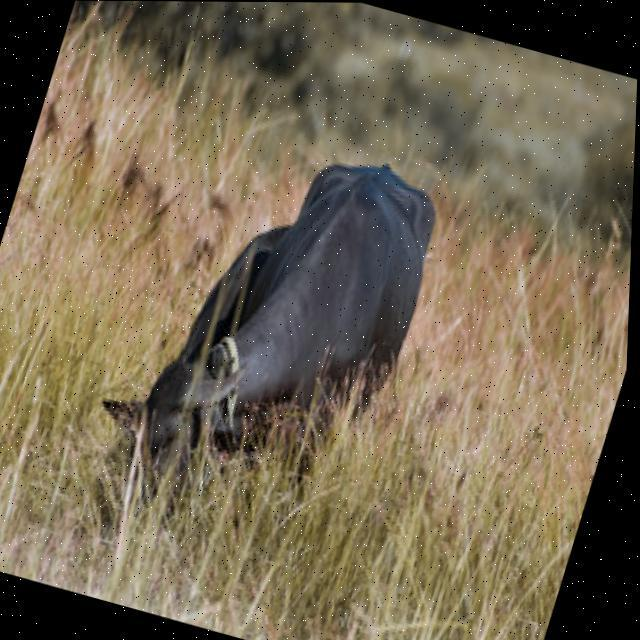Buffalo: (70, 102, 461, 565)
